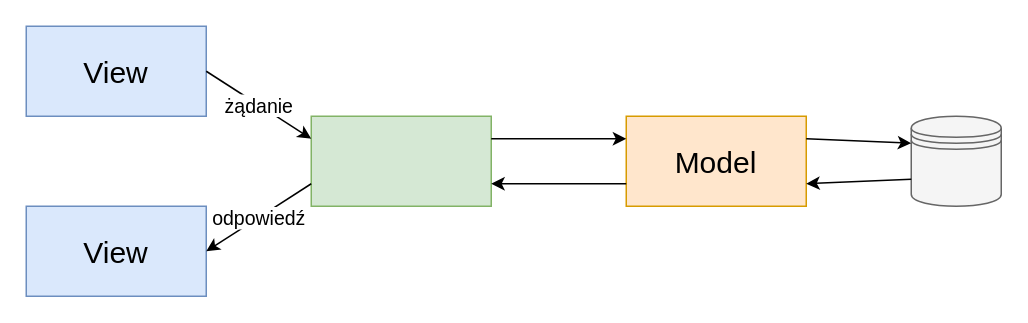
Image size: 1028x323. Some labels were removed from this diagram. Here are the shapes that lost their labels. From the top down, the centre of each, then its label:
point (400, 160): Controller
point (955, 160): DB
